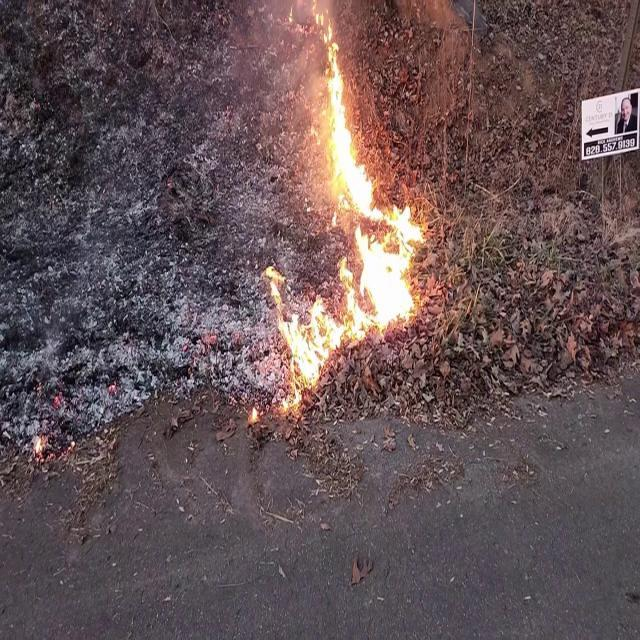Fire: (263, 6, 432, 402)
